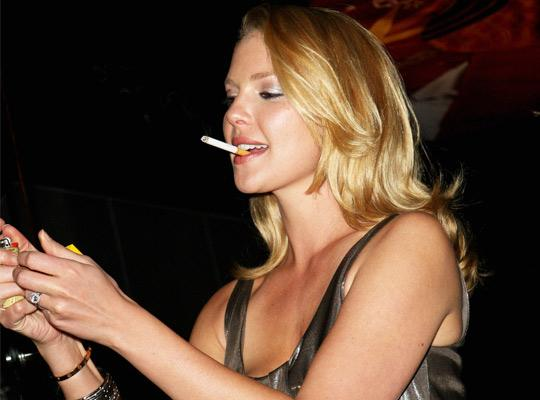person: (4, 5, 476, 400)
